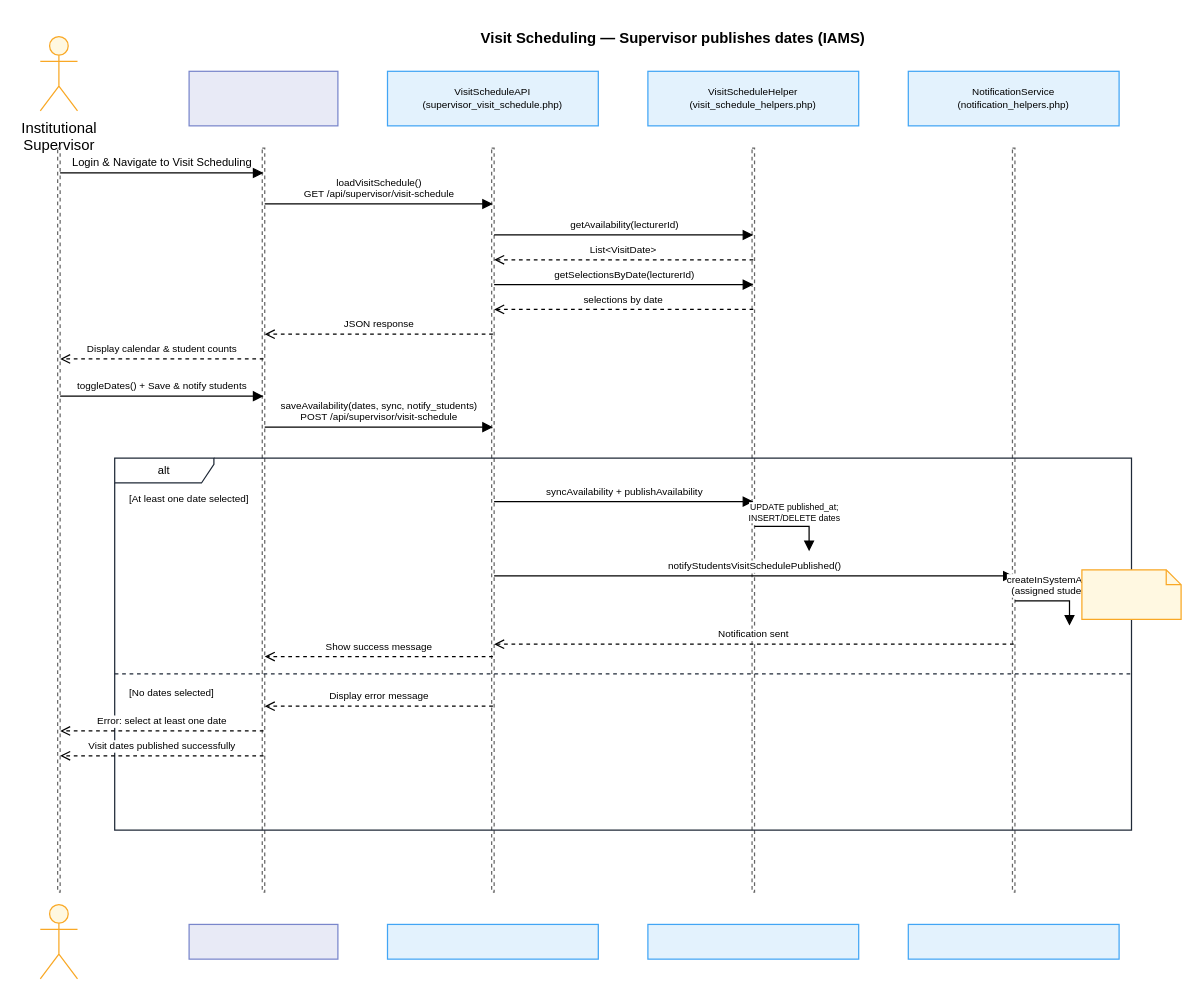
This 1203x1001 diagram has some shape labels left out. The shapes that lost their labels are listed below. From the top down, each one's box as (x1, y1, x2, y2) in pixels, then its label:
(188, 70, 338, 126): User Interface (React)
(1081, 569, 1181, 619): In-system only (no email)
